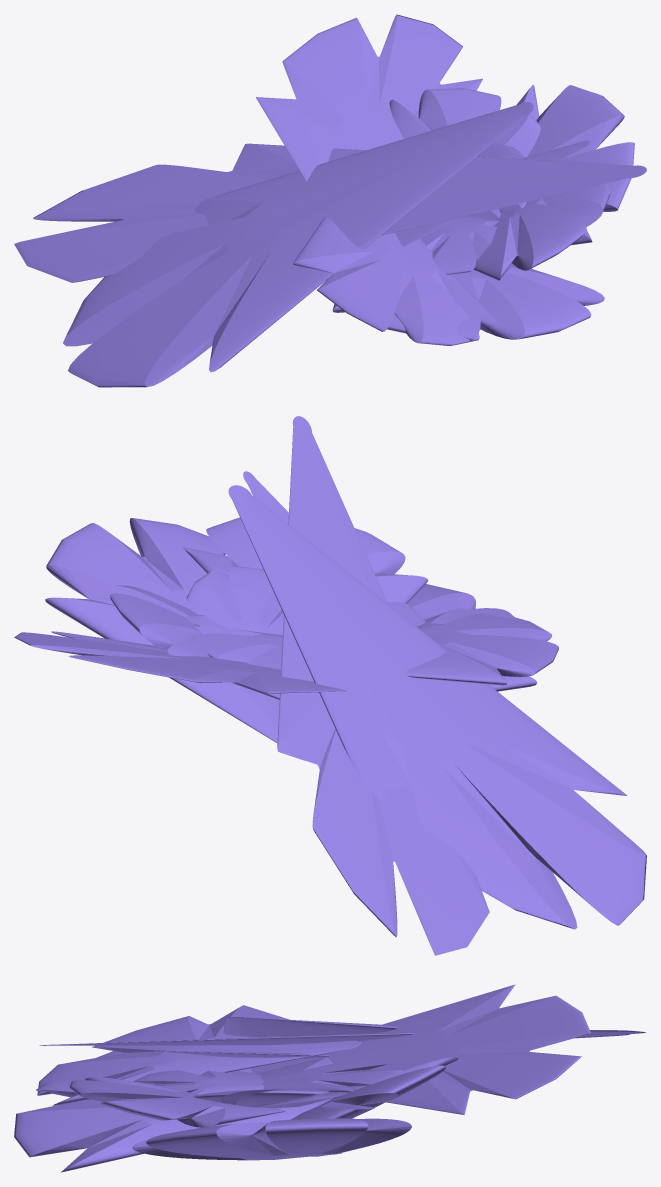
The model's file is corail_fleur.fbx.
The picture shows the model from 3 angles, top to bottom: view 1: azimuth 30°, elevation 25°; view 2: azimuth 150°, elevation 25°; view 3: azimuth 270°, elevation 25°; orthographic projection. The views are drawn at different scales.
Parts seen in each view (by area): view 1: corail_PETAL3, corail_PETAL6, corail_PETAL2, corail_PETAL7, corail_PETAL4, corail_PETAL8, corail_FLEUR, corail_PETAL5, corail_PETAL12, corail_PETAL10, corail_PETAL9; view 2: corail_PETAL3, corail_PETAL6, corail_FLEUR, corail_PETAL7, corail_PETAL2, corail_PETAL9, corail_PETAL8, corail_PETAL5, corail_PETAL11, corail_PETAL4; view 3: corail_PETAL2, corail_PETAL7, corail_FLEUR, corail_PETAL4, corail_PETAL8, corail_PETAL11, corail_PETAL5, corail_PETAL6, corail_PETAL3, corail_PETAL12, corail_PETAL9, corail_PETAL10.
Part boxes in pixels (x1,y1,x2,y2): corail_PETAL3: (63, 102, 533, 387); corail_PETAL6: (14, 143, 646, 282); corail_PETAL2: (256, 14, 482, 181); corail_PETAL7: (293, 217, 496, 345); corail_PETAL4: (332, 263, 604, 340); corail_PETAL8: (473, 183, 609, 280); corail_FLEUR: (516, 85, 634, 245); corail_PETAL5: (389, 88, 540, 157); corail_PETAL12: (420, 216, 498, 274); corail_PETAL10: (395, 140, 590, 246); corail_PETAL9: (467, 142, 526, 219); corail_PETAL3: (228, 485, 646, 929); corail_PETAL6: (277, 416, 489, 955); corail_FLEUR: (45, 518, 279, 743); corail_PETAL7: (405, 608, 558, 685); corail_PETAL2: (14, 631, 347, 693); corail_PETAL9: (186, 566, 283, 635); corail_PETAL8: (182, 517, 427, 603); corail_PETAL5: (110, 585, 279, 699); corail_PETAL11: (191, 626, 282, 669); corail_PETAL4: (407, 584, 537, 691); corail_PETAL2: (250, 984, 590, 1114); corail_PETAL7: (37, 1005, 361, 1105); corail_FLEUR: (132, 1118, 411, 1160); corail_PETAL4: (14, 1051, 332, 1172); corail_PETAL8: (70, 1077, 284, 1127); corail_PETAL11: (257, 1057, 402, 1092); corail_PETAL5: (291, 1057, 458, 1119); corail_PETAL6: (39, 1030, 645, 1045); corail_PETAL3: (223, 1017, 397, 1036); corail_PETAL12: (133, 1070, 263, 1094); corail_PETAL9: (193, 1089, 347, 1107); corail_PETAL10: (154, 1051, 329, 1058).
Bounding box in the file's own units: 2.11 × 0.8951 × 2.03.
